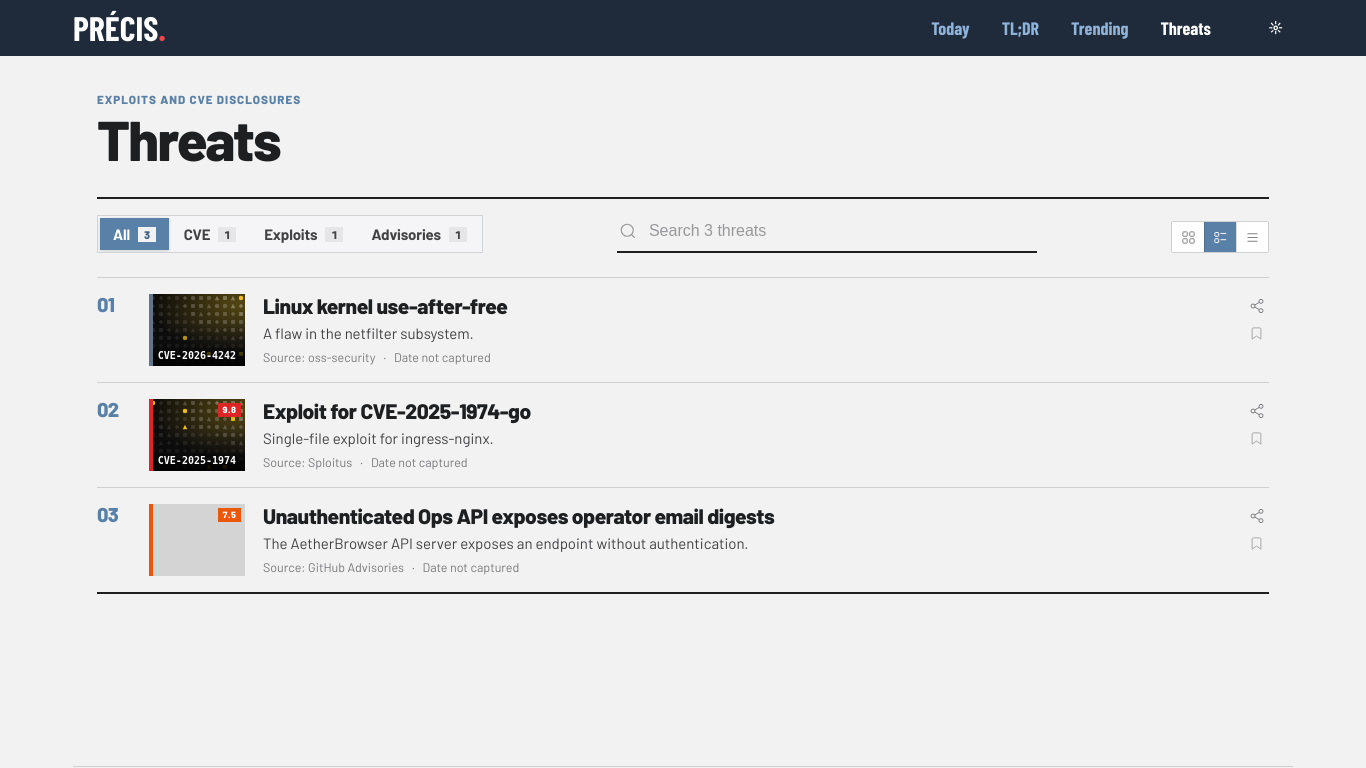
Test: ThreatsPage search › tabs run All, CVE, Exploits, Advisories and each shows its own feeds
Expected: the link "Linux kernel use-after-free" is shown, x1=263 y1=293 x2=508 y2=318
Click the tab "Advisories 1" at [419, 234], box x1=358 y1=218 x2=480 y2=250
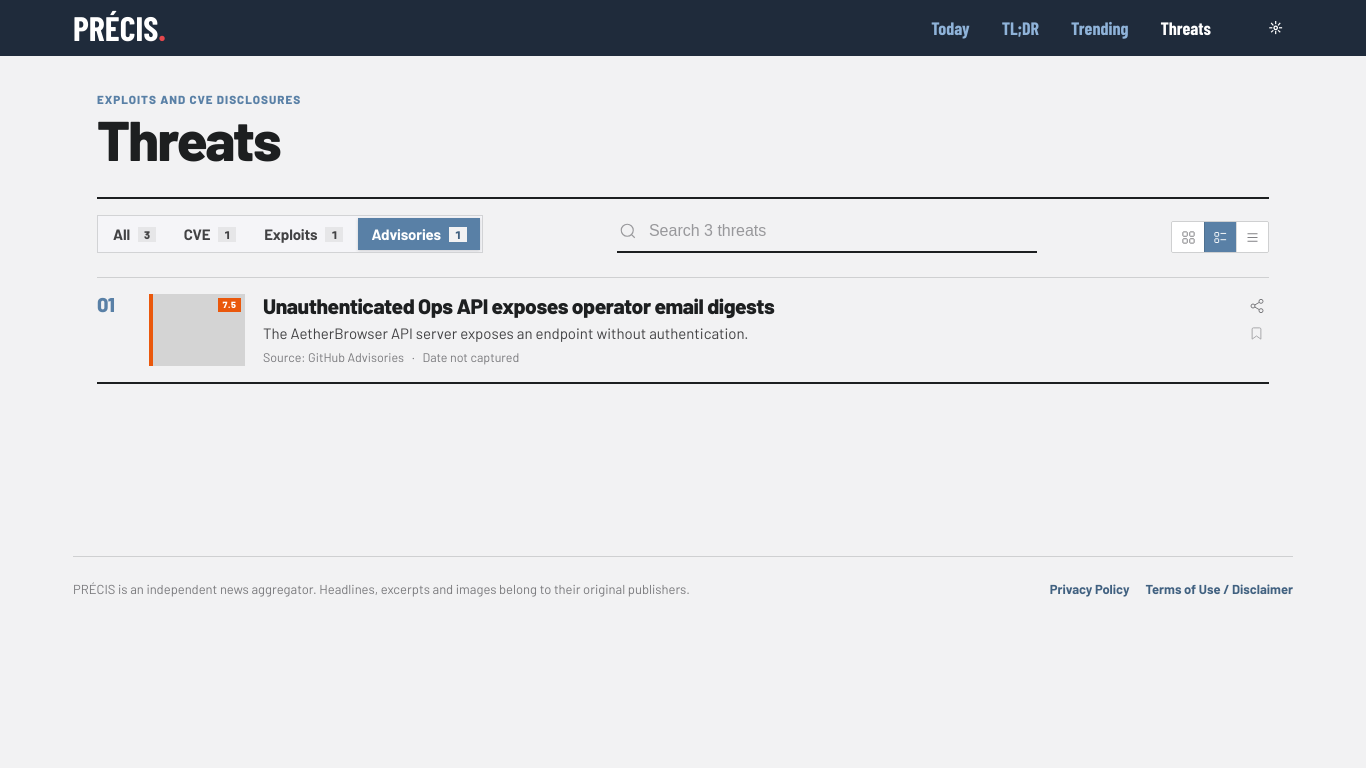
Expected: the link "Unauthenticated Ops API exposes operator email digests" is shown, x1=263 y1=293 x2=774 y2=318
Result: the link "Linux kernel use-after-free" is gone
Click the tab "CVE 1" at [210, 234], box x1=171 y1=218 x2=249 y2=250
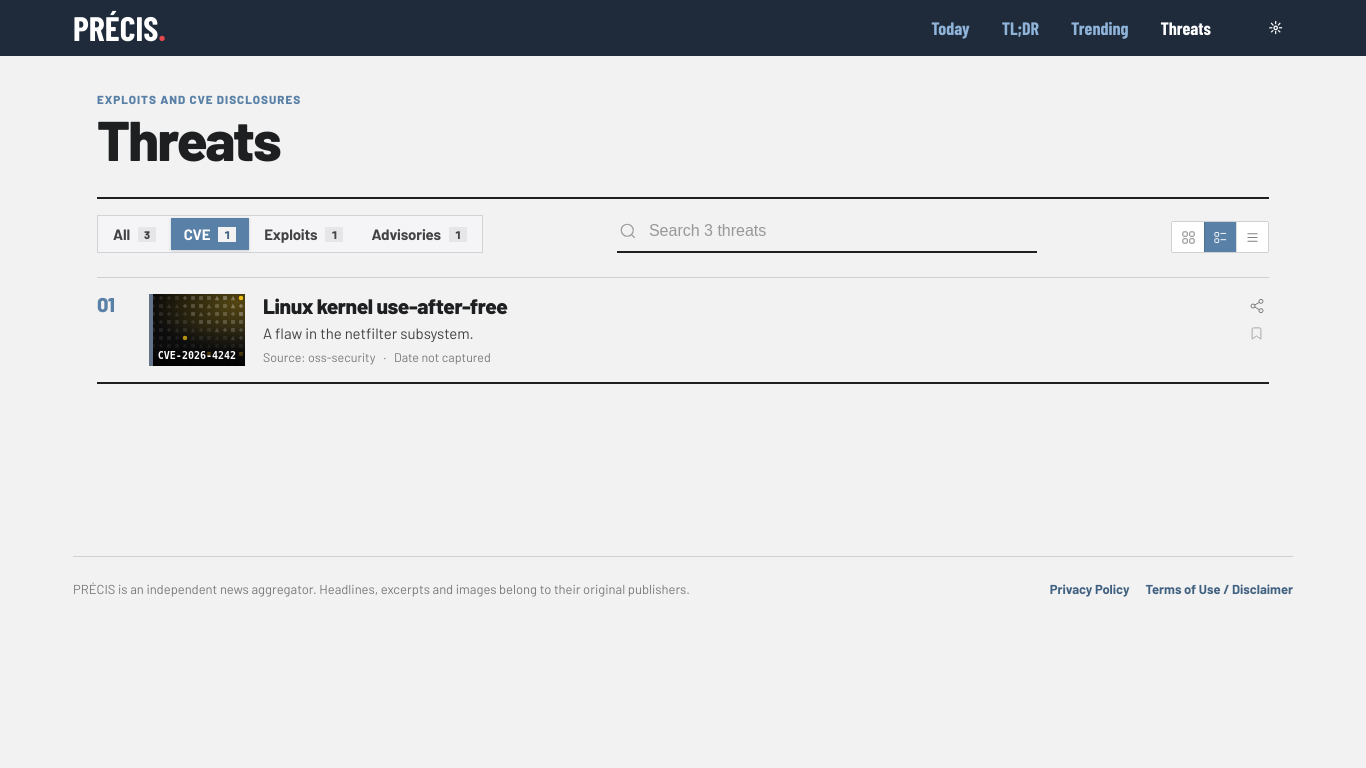
Result: the link "Linux kernel use-after-free" is shown at x1=263 y1=293 x2=508 y2=318
Result: the link "Unauthenticated Ops API exposes operator email digests" is gone
